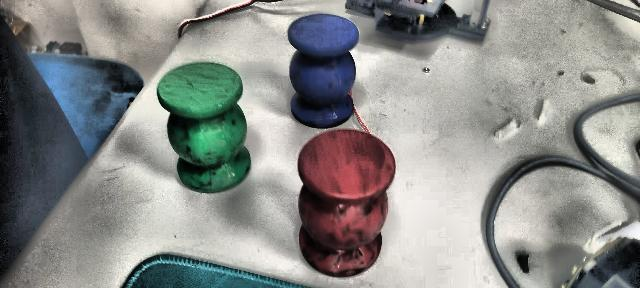blue: (287, 12, 358, 128)
green: (158, 61, 254, 193)
red: (293, 128, 403, 280)
